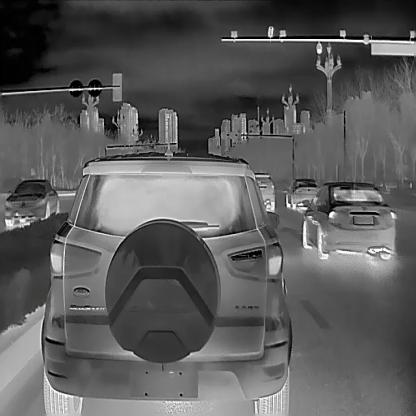car: (40, 152, 292, 415), (301, 180, 395, 258), (4, 177, 58, 228), (285, 178, 320, 211), (255, 172, 274, 212)
